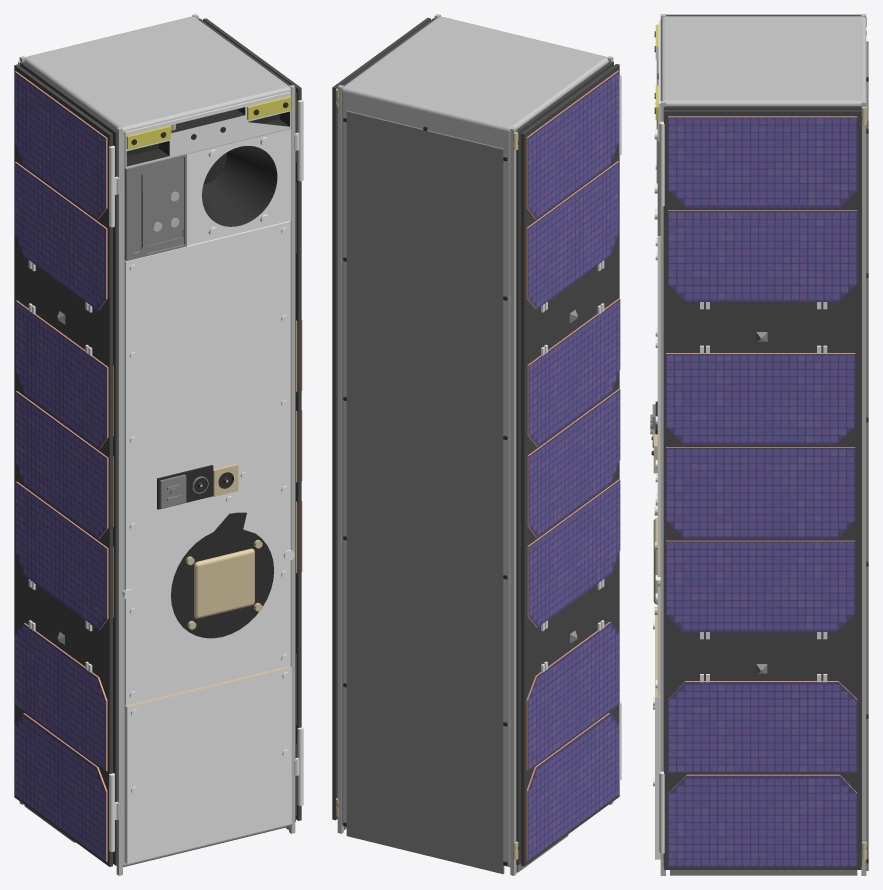
Rendered from CubeSat - ICECube.glb.
The picture shows the model from 3 angles, left to right: view 1: azimuth 30°, elevation 25°; view 2: azimuth 150°, elevation 25°; view 3: azimuth 270°, elevation 25°; orthographic projection. The views are drawn at different scales.
Parts seen in each view (by area): view 1: Layer_0, Layer_3, Layer_5, Layer_2, Layer_4; view 2: Layer_0, Layer_3, Layer_5, Layer_2; view 3: Layer_5, Layer_0, Layer_4, Layer_3.
Boxes of the visible parts, left/top/right/bottom form: Layer_0: left=18, top=14, right=295, bottom=875; Layer_3: left=14, top=64, right=118, bottom=866; Layer_5: left=203, top=18, right=303, bottom=820; Layer_2: left=20, top=62, right=120, bottom=865; Layer_4: left=198, top=18, right=297, bottom=821; Layer_0: left=336, top=14, right=613, bottom=875; Layer_3: left=521, top=64, right=621, bottom=866; Layer_5: left=332, top=17, right=430, bottom=820; Layer_2: left=514, top=61, right=613, bottom=864; Layer_5: left=659, top=110, right=861, bottom=869; Layer_0: left=650, top=14, right=868, bottom=875; Layer_4: left=663, top=106, right=866, bottom=866; Layer_3: left=666, top=14, right=861, bottom=16.
Size of the model in its own units: 2.34 by 8.29 by 2.12.
